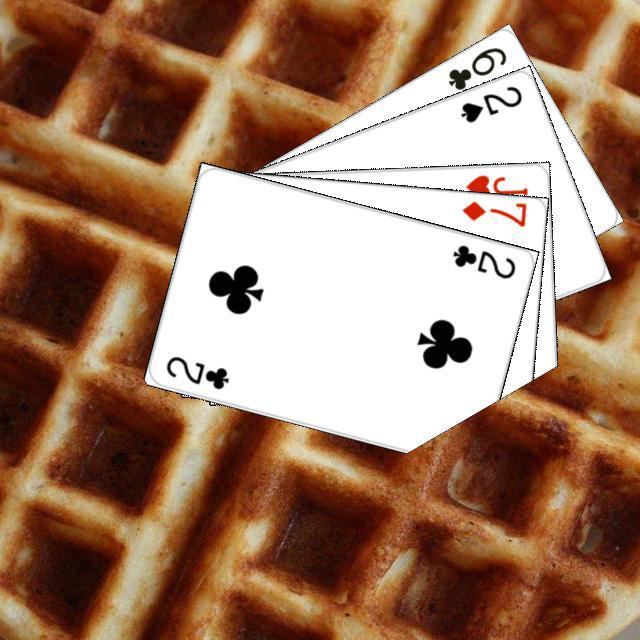2c: (447, 239, 517, 281), (161, 351, 231, 391)
2s: (455, 81, 524, 125)
6c: (443, 42, 509, 92)
7d: (457, 196, 528, 228)
Jh: (460, 170, 530, 199)
